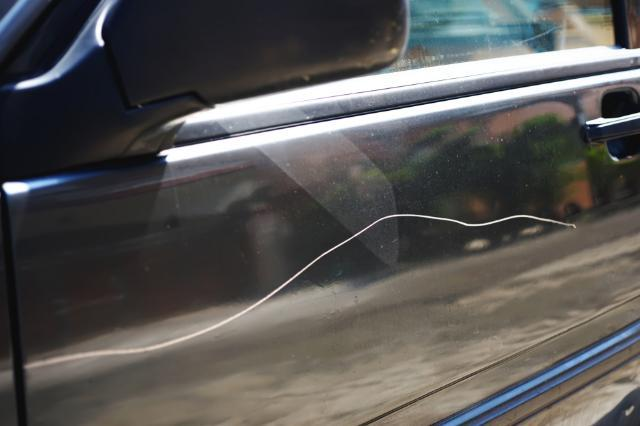Door: (13, 166, 637, 404)
